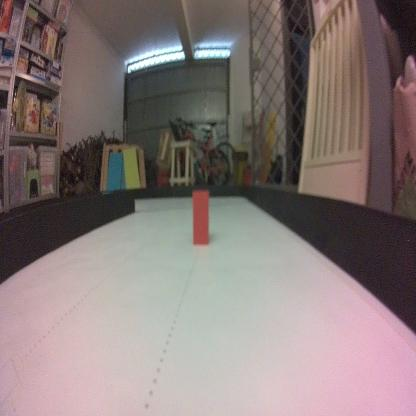red: (190, 190, 212, 249)
